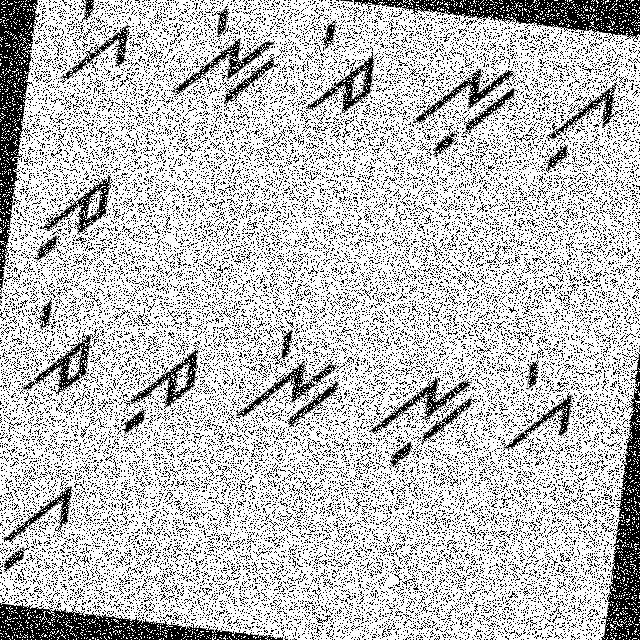ge: (490, 352, 584, 467), (53, 0, 138, 91)
gu: (532, 76, 623, 182), (0, 469, 78, 583)
nge: (158, 0, 287, 117), (232, 315, 350, 439)
ngu: (362, 354, 481, 478), (403, 48, 526, 165)
te: (12, 292, 102, 406), (298, 9, 383, 122)
tu: (22, 158, 122, 278), (116, 324, 207, 444)
